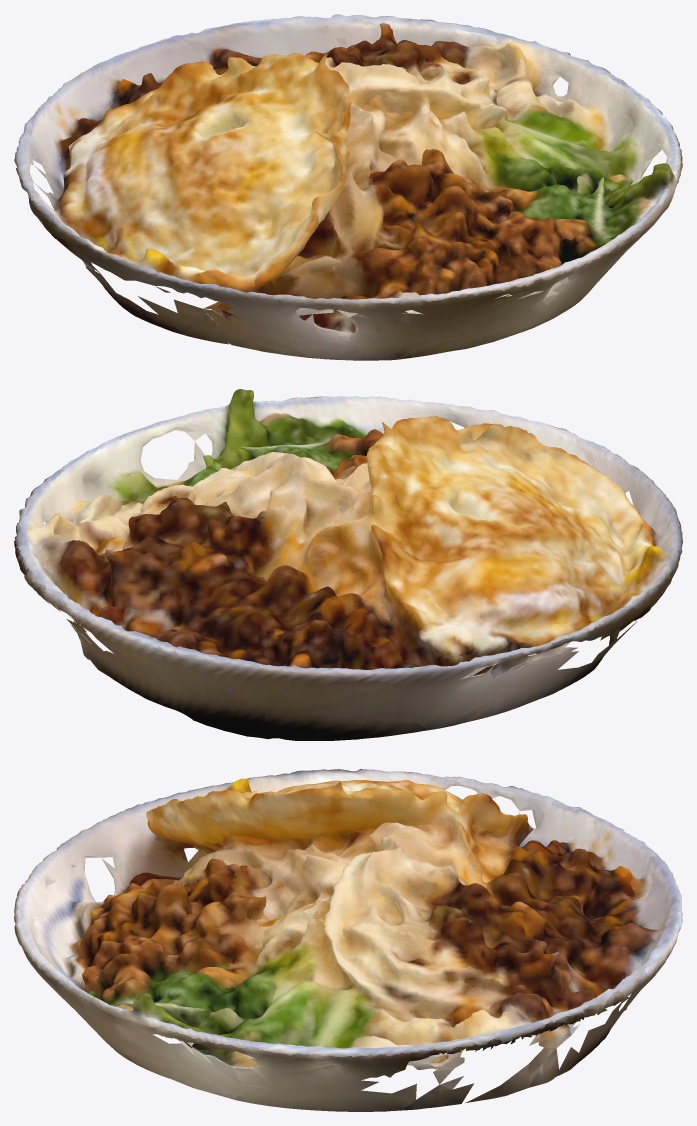
File: noodles_with_soybean_paste_scaniverse_lidar.glb
The picture shows the model from 3 angles, top to bottom: view 1: azimuth 30°, elevation 25°; view 2: azimuth 150°, elevation 25°; view 3: azimuth 270°, elevation 25°; orthographic projection.
Parts seen in each view (by area): view 1: mesh_main_0; view 2: mesh_main_0; view 3: mesh_main_0.
Boxes of the visible parts, <box> form: mesh_main_0: <box>14,14,682,360</box>; mesh_main_0: <box>14,389,682,740</box>; mesh_main_0: <box>14,769,682,1111</box>.
Bounding box in the file's own units: 0.2261 × 0.0762 × 0.2246.
Materials: 1 (1 with a texture image).
